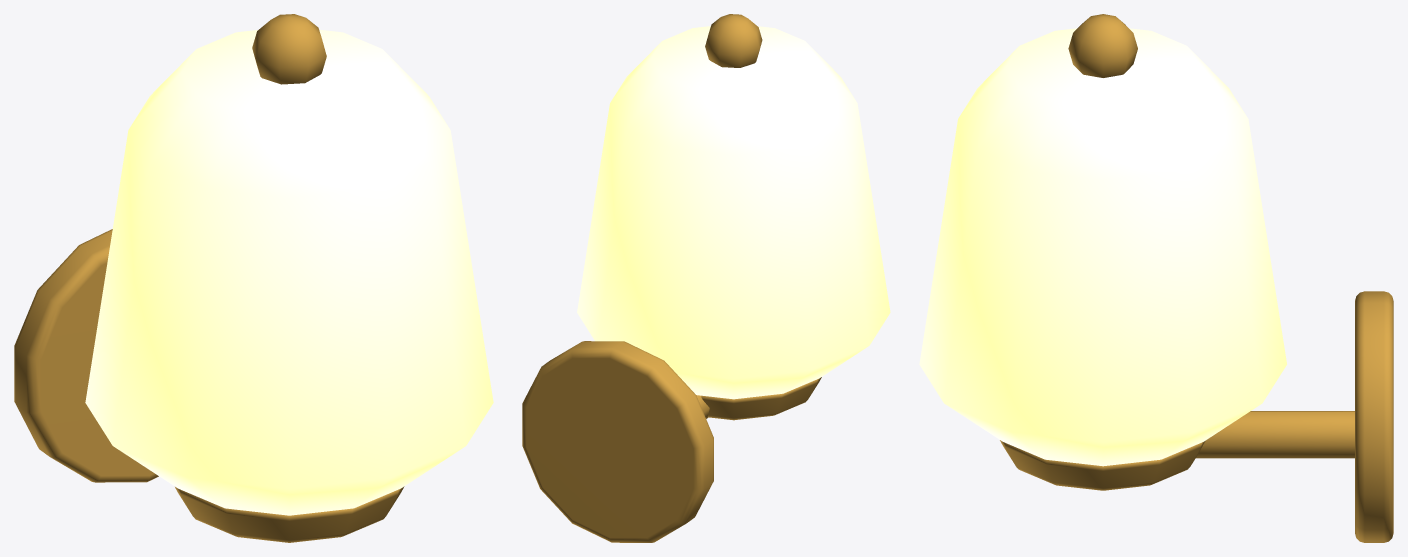
File: wall-sconce.glb
The picture shows the model from 3 angles, left to right: view 1: azimuth 30°, elevation 25°; view 2: azimuth 150°, elevation 25°; view 3: azimuth 270°, elevation 25°; orthographic projection. The views are drawn at different scales.
Visible parts, largest first — view 1: wall-sconce; view 2: wall-sconce; view 3: wall-sconce.
Boxes of the visible parts, bbox=[...] form: wall-sconce: bbox=[14, 14, 493, 542]; wall-sconce: bbox=[522, 14, 890, 542]; wall-sconce: bbox=[919, 14, 1393, 542].
Size of the model in its own units: 0.19 by 0.293 by 0.245.
